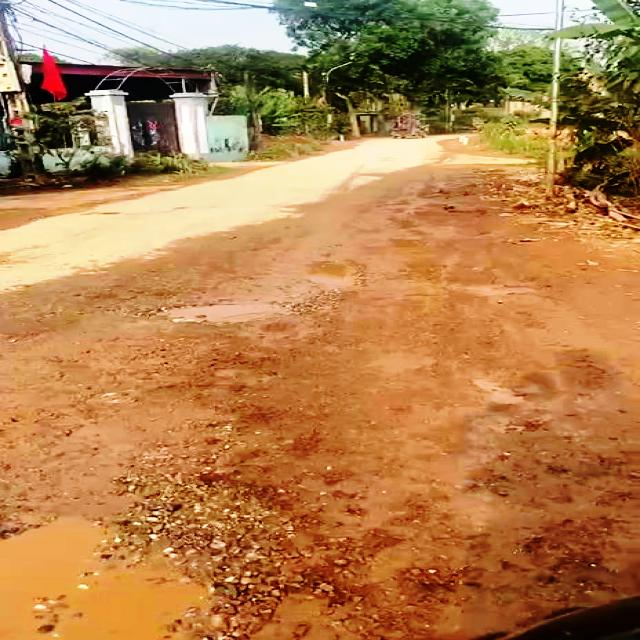pothole: (0, 496, 234, 640), (142, 300, 295, 324), (302, 258, 360, 293)
